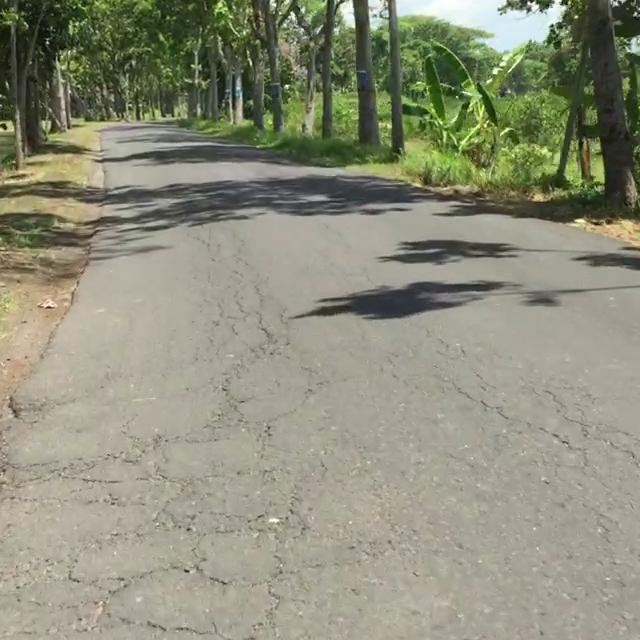retak_kulit_buaya: (0, 445, 305, 640), (183, 307, 306, 443), (453, 360, 586, 473)
